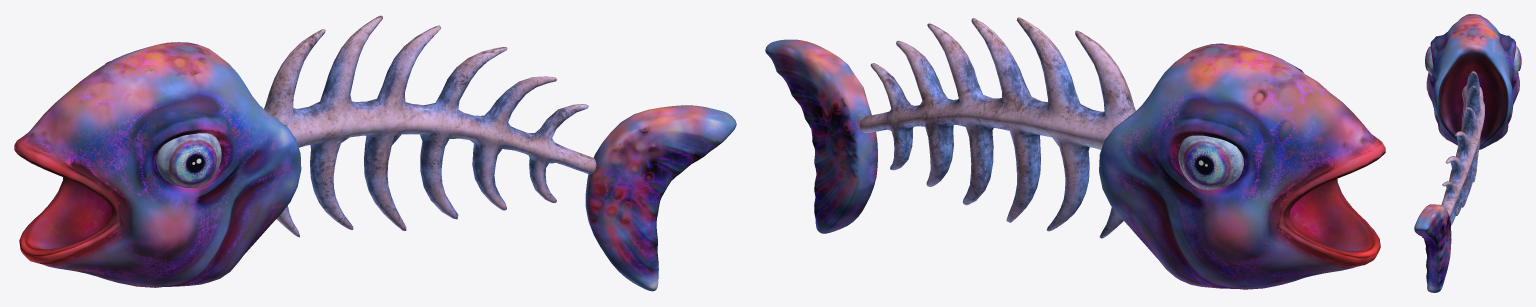
File: fish skeleton.fbx
The picture shows the model from 3 angles, left to right: view 1: azimuth 30°, elevation 25°; view 2: azimuth 150°, elevation 25°; view 3: azimuth 270°, elevation 25°; orthographic projection. The views are drawn at different scales.
Visible parts, largest first — view 1: tail_low_0; view 2: tail_low_0; view 3: tail_low_0.
Boxes of the visible parts, x1,y1,x2,y2 form: tail_low_0: (14,15,736,291); tail_low_0: (765,17,1385,289); tail_low_0: (1414,14,1521,292).
Bounding box in the file's own units: 331 × 152 × 92.86.
